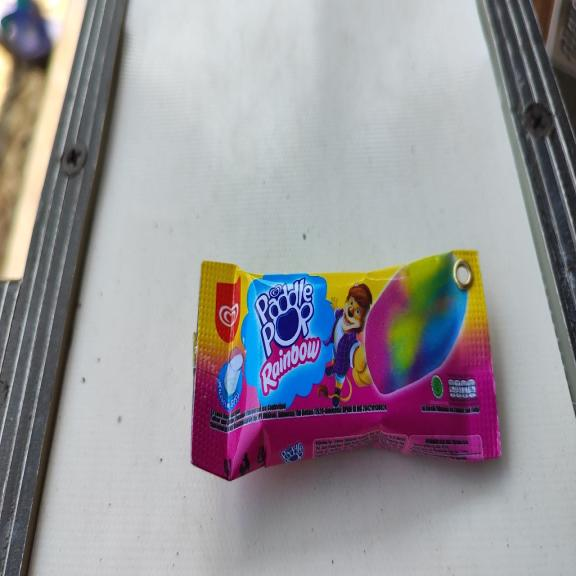Plastik: (189, 251, 501, 484)
